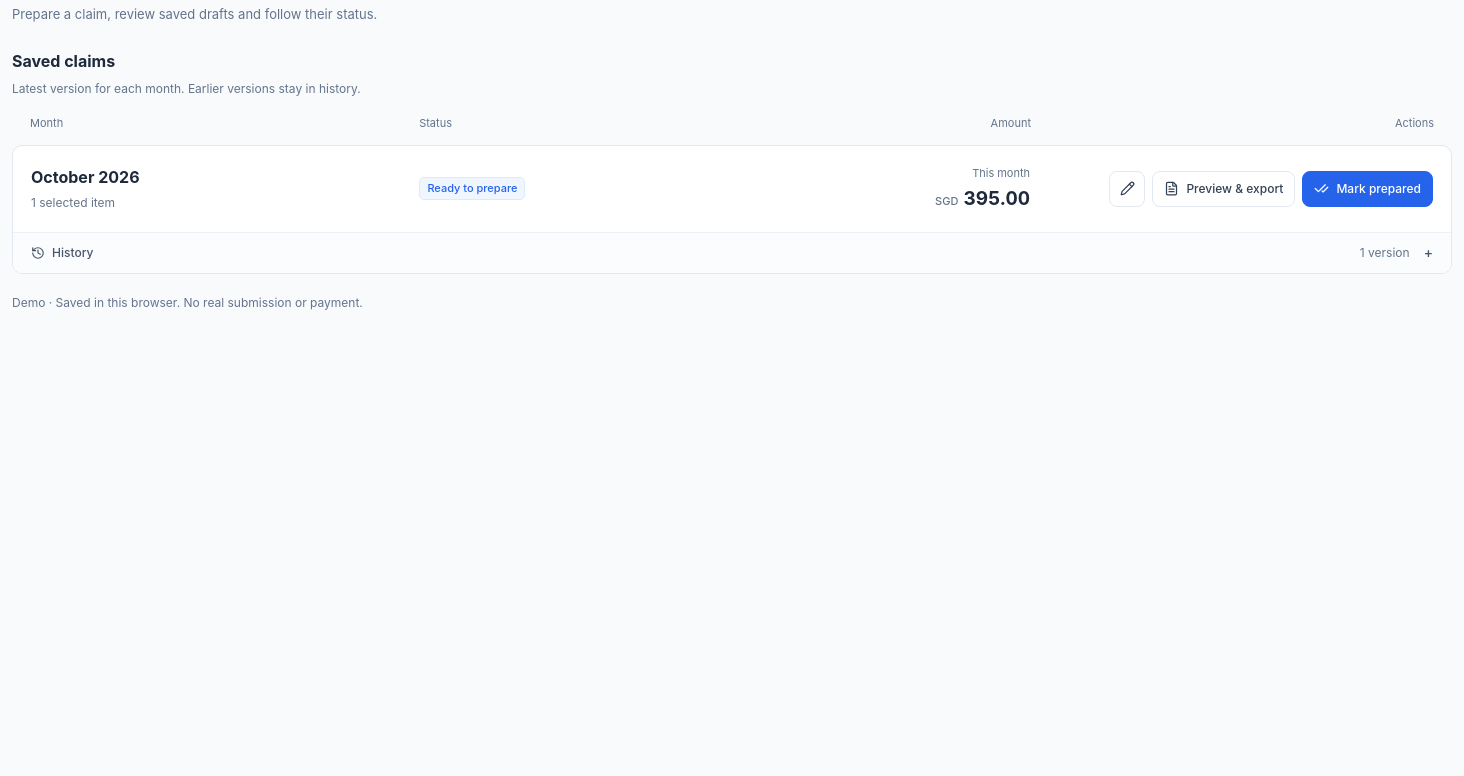
Scenario: simplified monthly claims journey › opens a saved draft directly from its visible edit control without an extra details step
The image size is (1464, 776).
Click the button named "Edit claim" at (1127, 189), box left=1109, top=171, right=1145, bottom=207
(page scrolled)
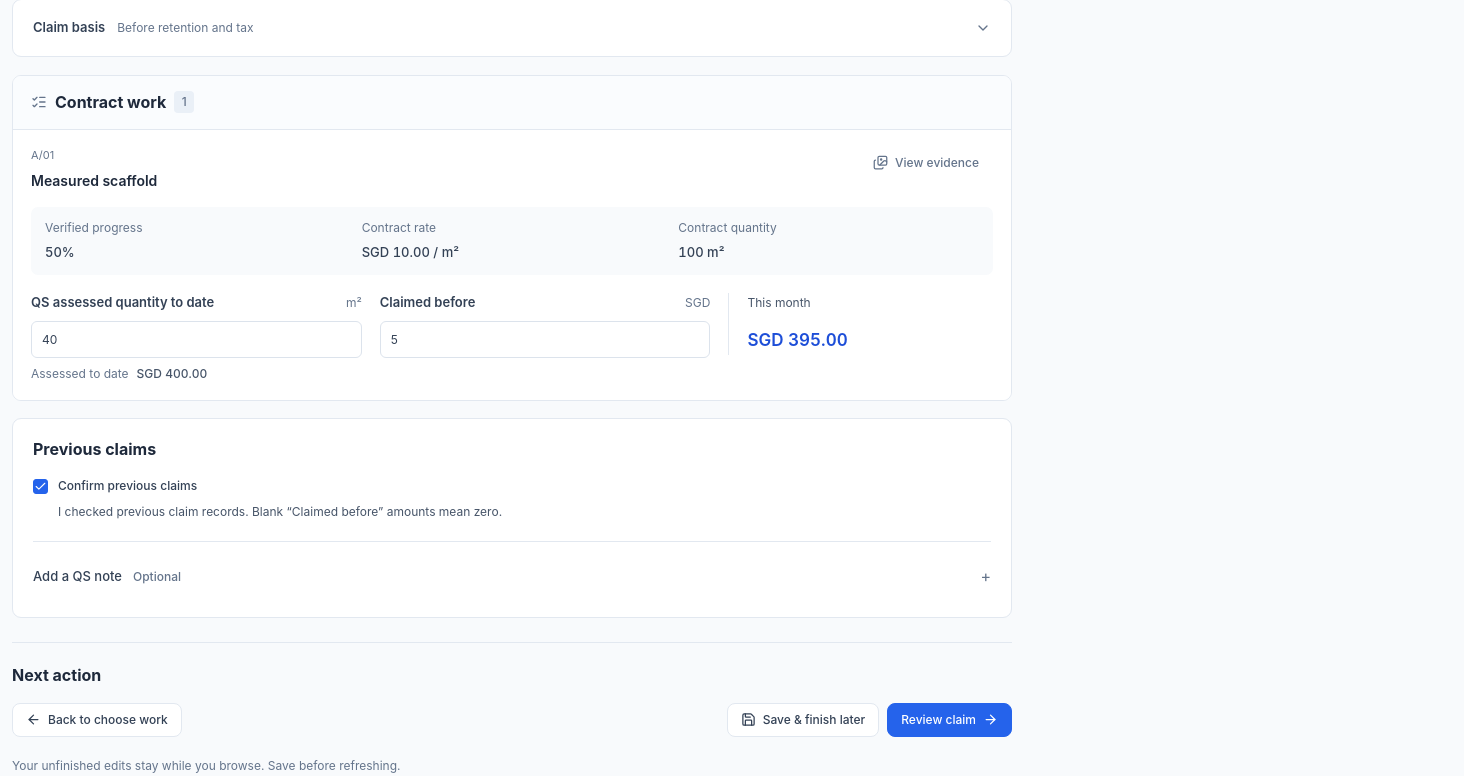
Result: the number field named "A QS cumulative quantity" holds "40" at left=31, top=320, right=362, bottom=358
Result: the number field named "A previously claimed value" holds "5" at left=380, top=320, right=710, bottom=358
Result: the text "50%" is shown at left=45, top=244, right=75, bottom=260
Click the heading "Add a QS note Optional" at (107, 576), box left=33, top=568, right=181, bottom=584
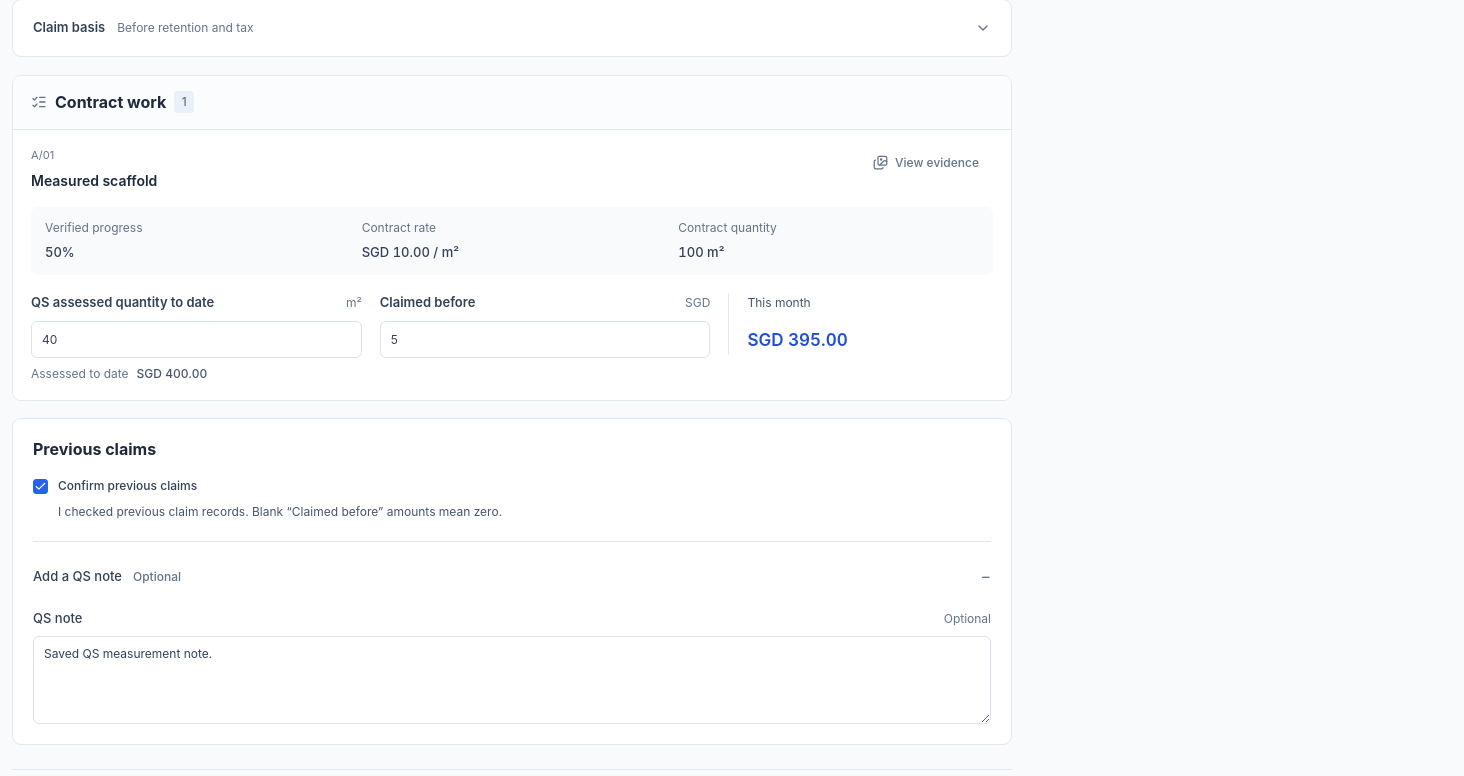
Result: the text box labelled "QS note" holds "Saved QS measurement note." at left=33, top=636, right=991, bottom=724
